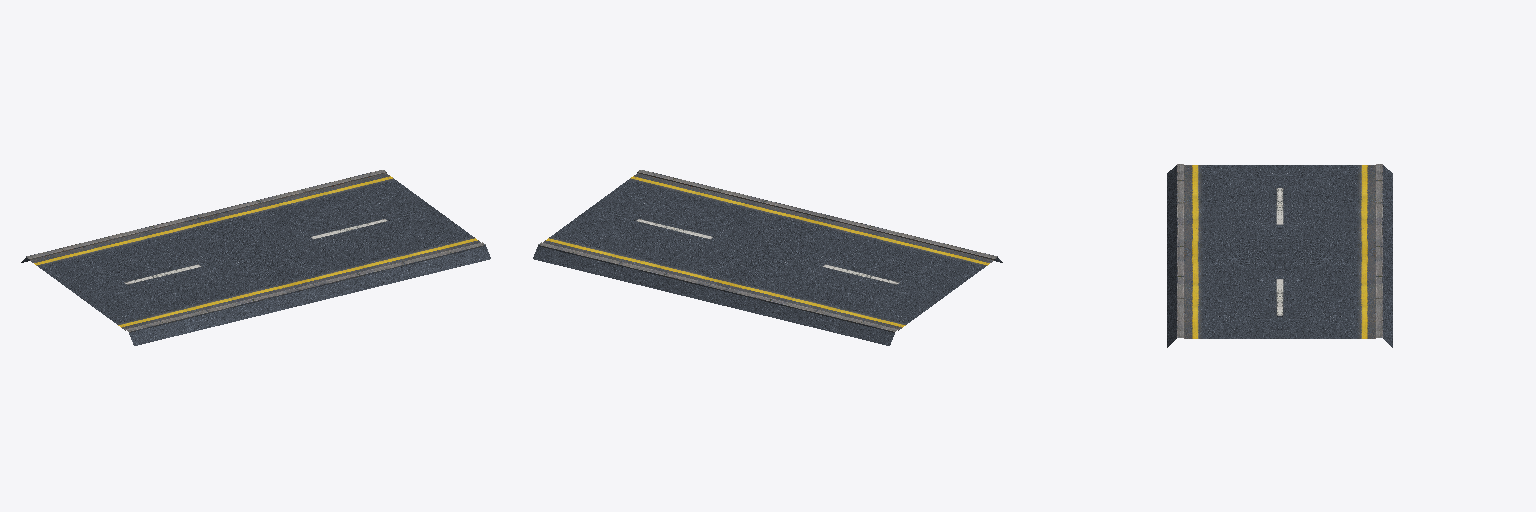
The picture shows the model from 3 angles: view 1: azimuth 30°, elevation 25°; view 2: azimuth 150°, elevation 25°; view 3: azimuth 270°, elevation 25°; orthographic projection.
Bounding box in the file's own units: 16 × 0.4482 × 8.8.
Materials: 1 (1 with a texture image).